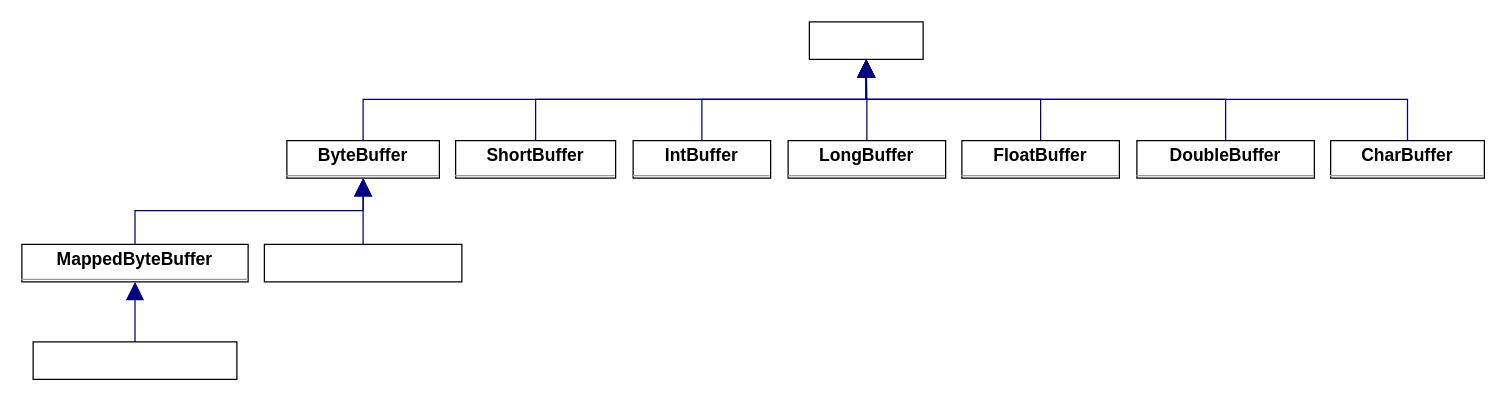
This 1506x401 diagram has some shape labels left out. Each missing label, with the box of its shape:
Buffer: (808, 21, 923, 59)
DirectByteBuffer: (32, 341, 237, 379)
HeapByteBuffer: (263, 243, 462, 282)
